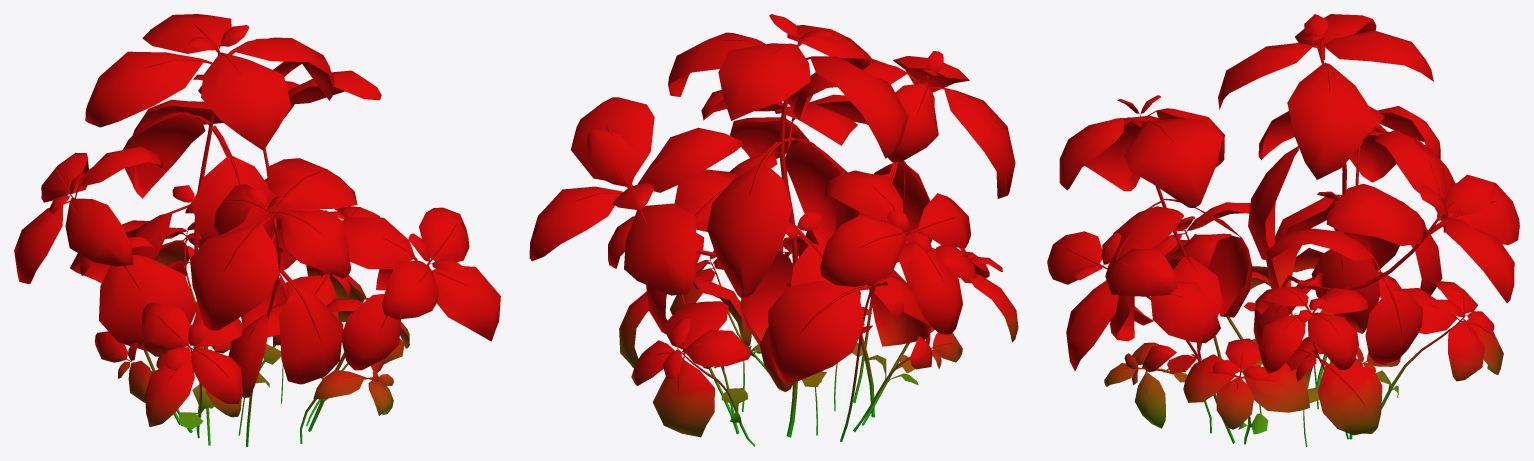
The model's file is Basil_LOD2_Var4_vgpochzia.fbx.
The picture shows the model from 3 angles, left to right: view 1: azimuth 30°, elevation 25°; view 2: azimuth 150°, elevation 25°; view 3: azimuth 270°, elevation 25°; orthographic projection. The views are drawn at different scales.
Parts seen in each view (by area): view 1: _xez8_Var4_LOD2; view 2: _xez8_Var4_LOD2; view 3: _xez8_Var4_LOD2.
Boxes of the visible parts, x1,y1,x2,y2 form: _xez8_Var4_LOD2: [14, 14, 500, 446]; _xez8_Var4_LOD2: [529, 14, 1018, 446]; _xez8_Var4_LOD2: [1047, 14, 1519, 446].
Bounding box in the file's own units: 35.04 × 36.53 × 39.67.
